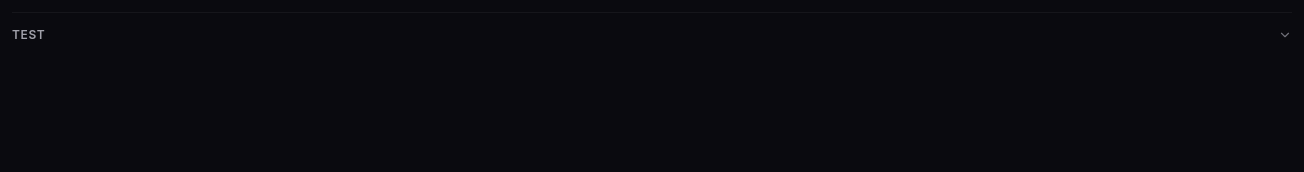
Scenario: CollapsibleSection › toggles on click — opens to show content
Check: the text "Toggle me" is not shown
Click to open
Step 1. Click the button → click(29, 34), box [12, 13, 1292, 57]
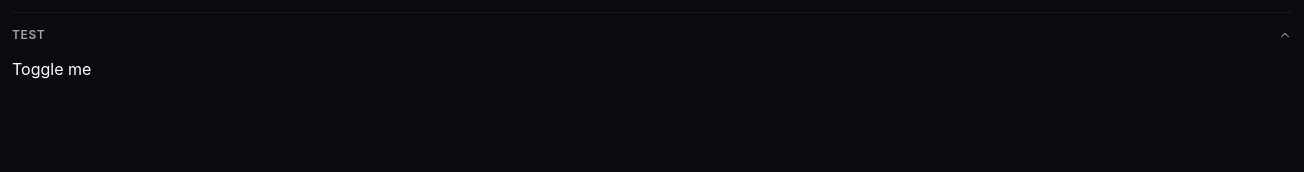
Check: the text "Toggle me" is shown, box [12, 59, 91, 79]
